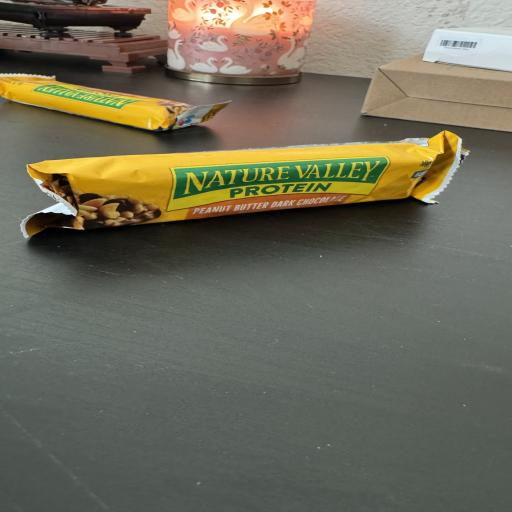granola: (22, 132, 466, 236), (0, 74, 228, 131)
